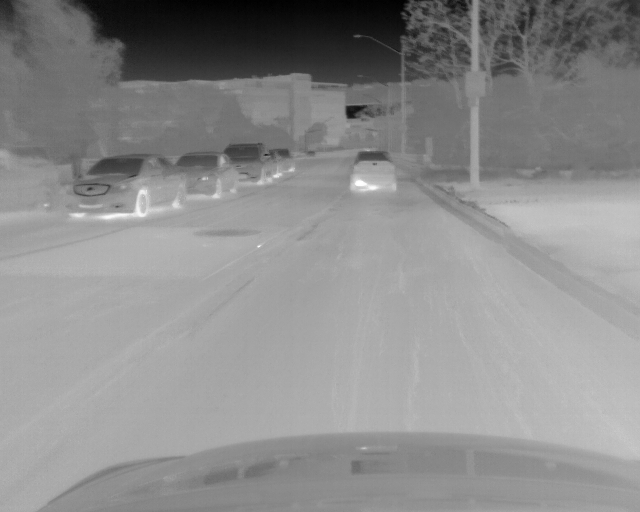car: (70, 153, 187, 220), (177, 150, 236, 200), (349, 150, 397, 196), (226, 143, 274, 186), (274, 148, 294, 175)
